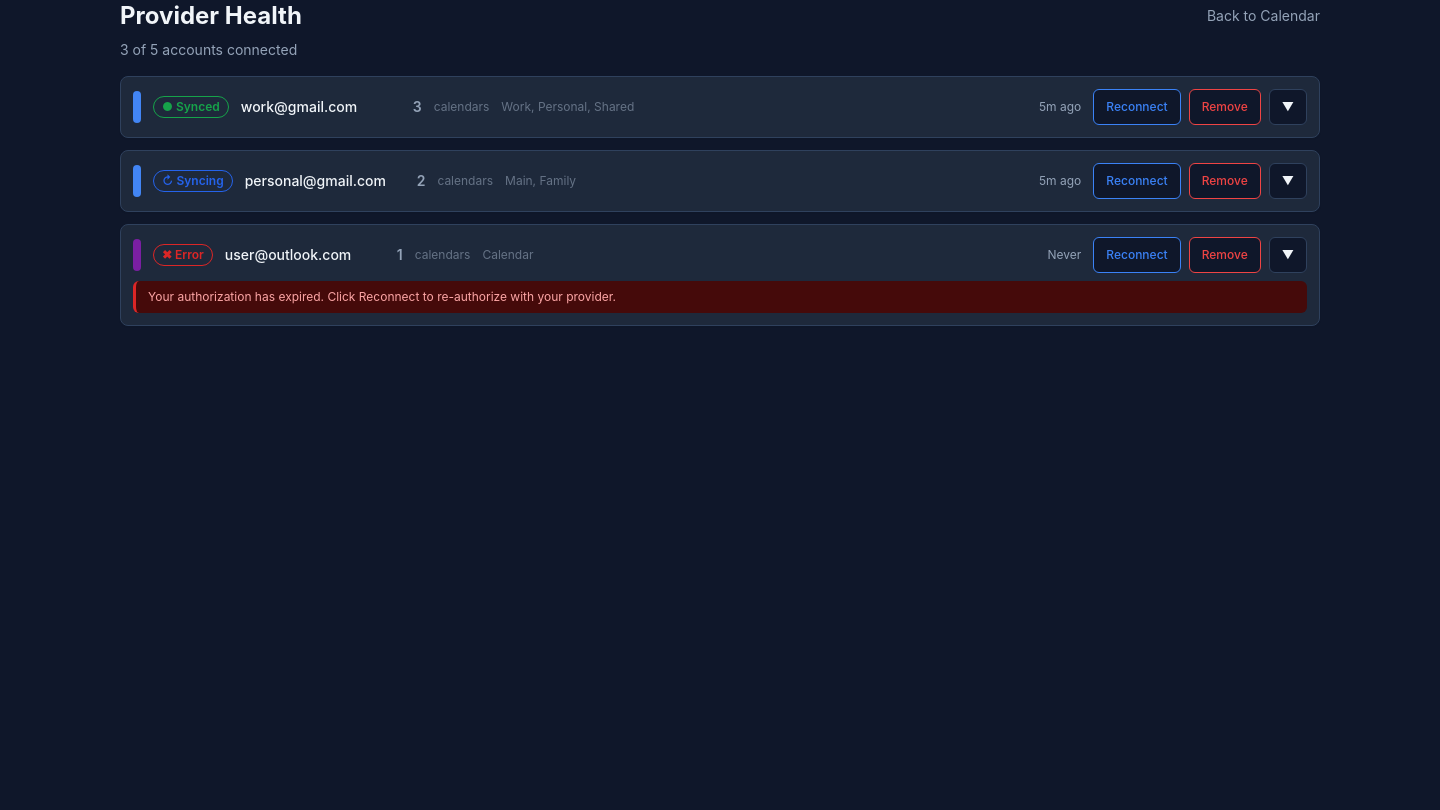
ProviderHealth Dashboard › remove account flow › shows error message when remove fails
Click the button with test id "remove-btn" at [1225, 107], box x1=1189 y1=89 x2=1261 y2=125
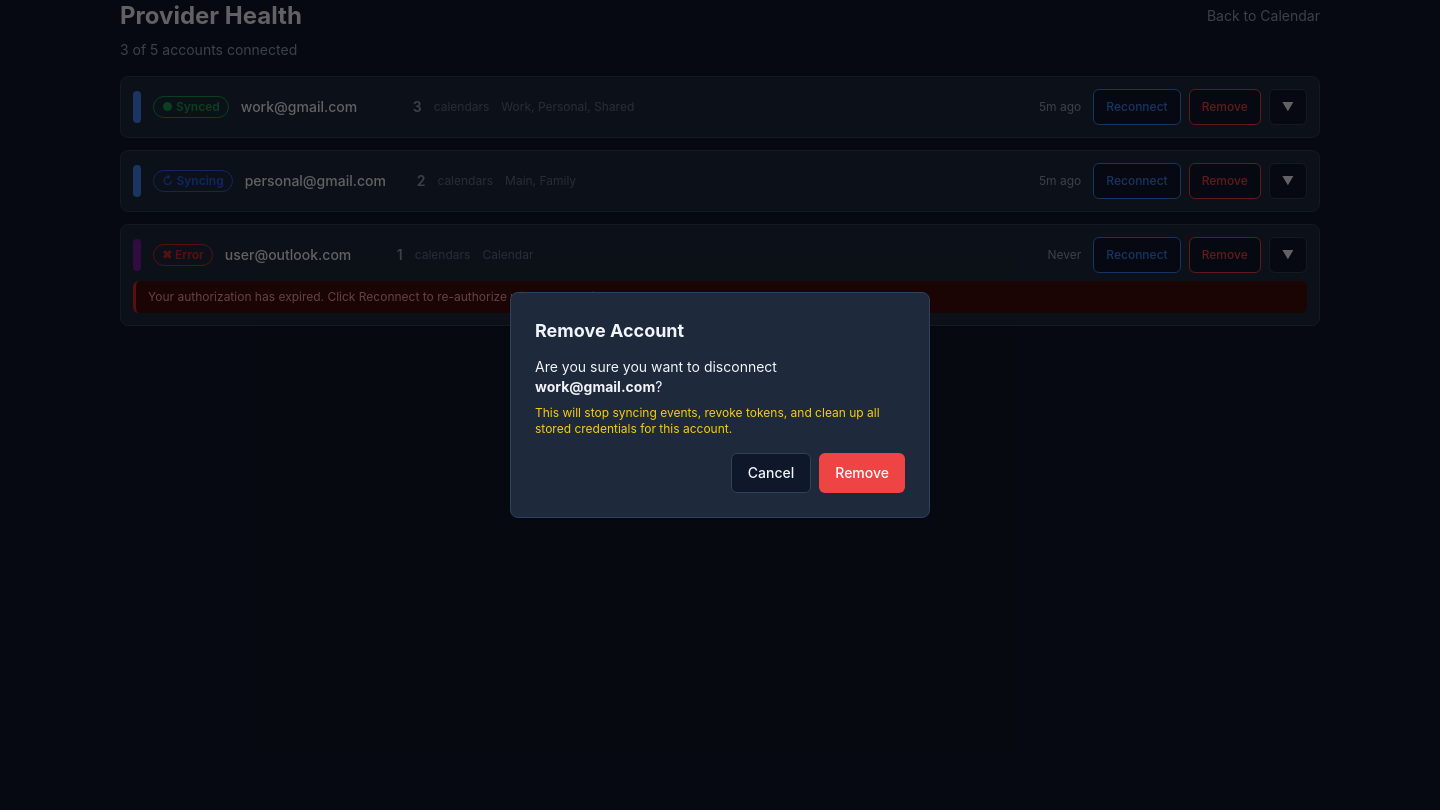
Click the button with test id "remove-confirm" at [862, 473], box x1=819 y1=453 x2=905 y2=493
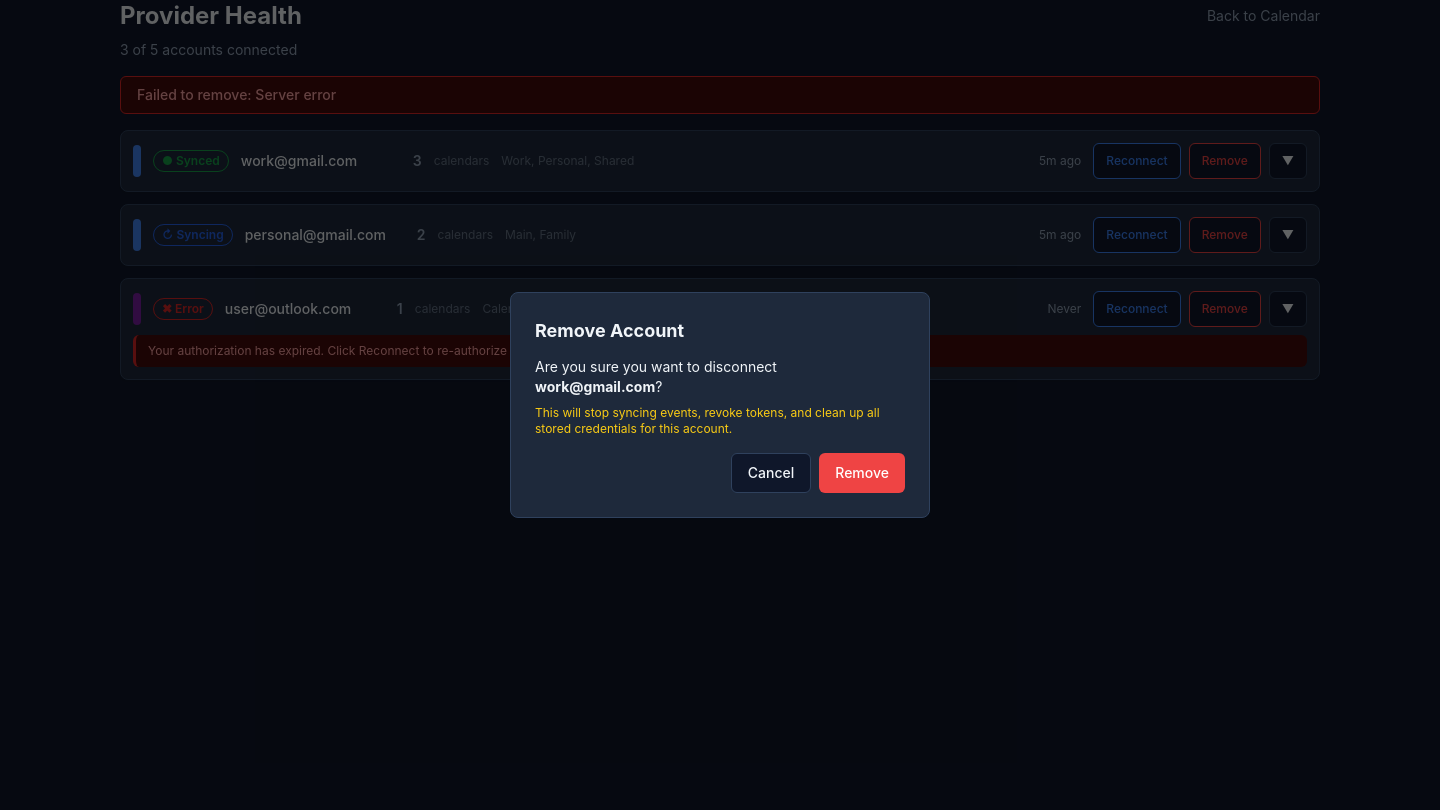
Now the text with test id "health-status-msg" shows "Server error", box x1=137 y1=86 x2=336 y2=103
